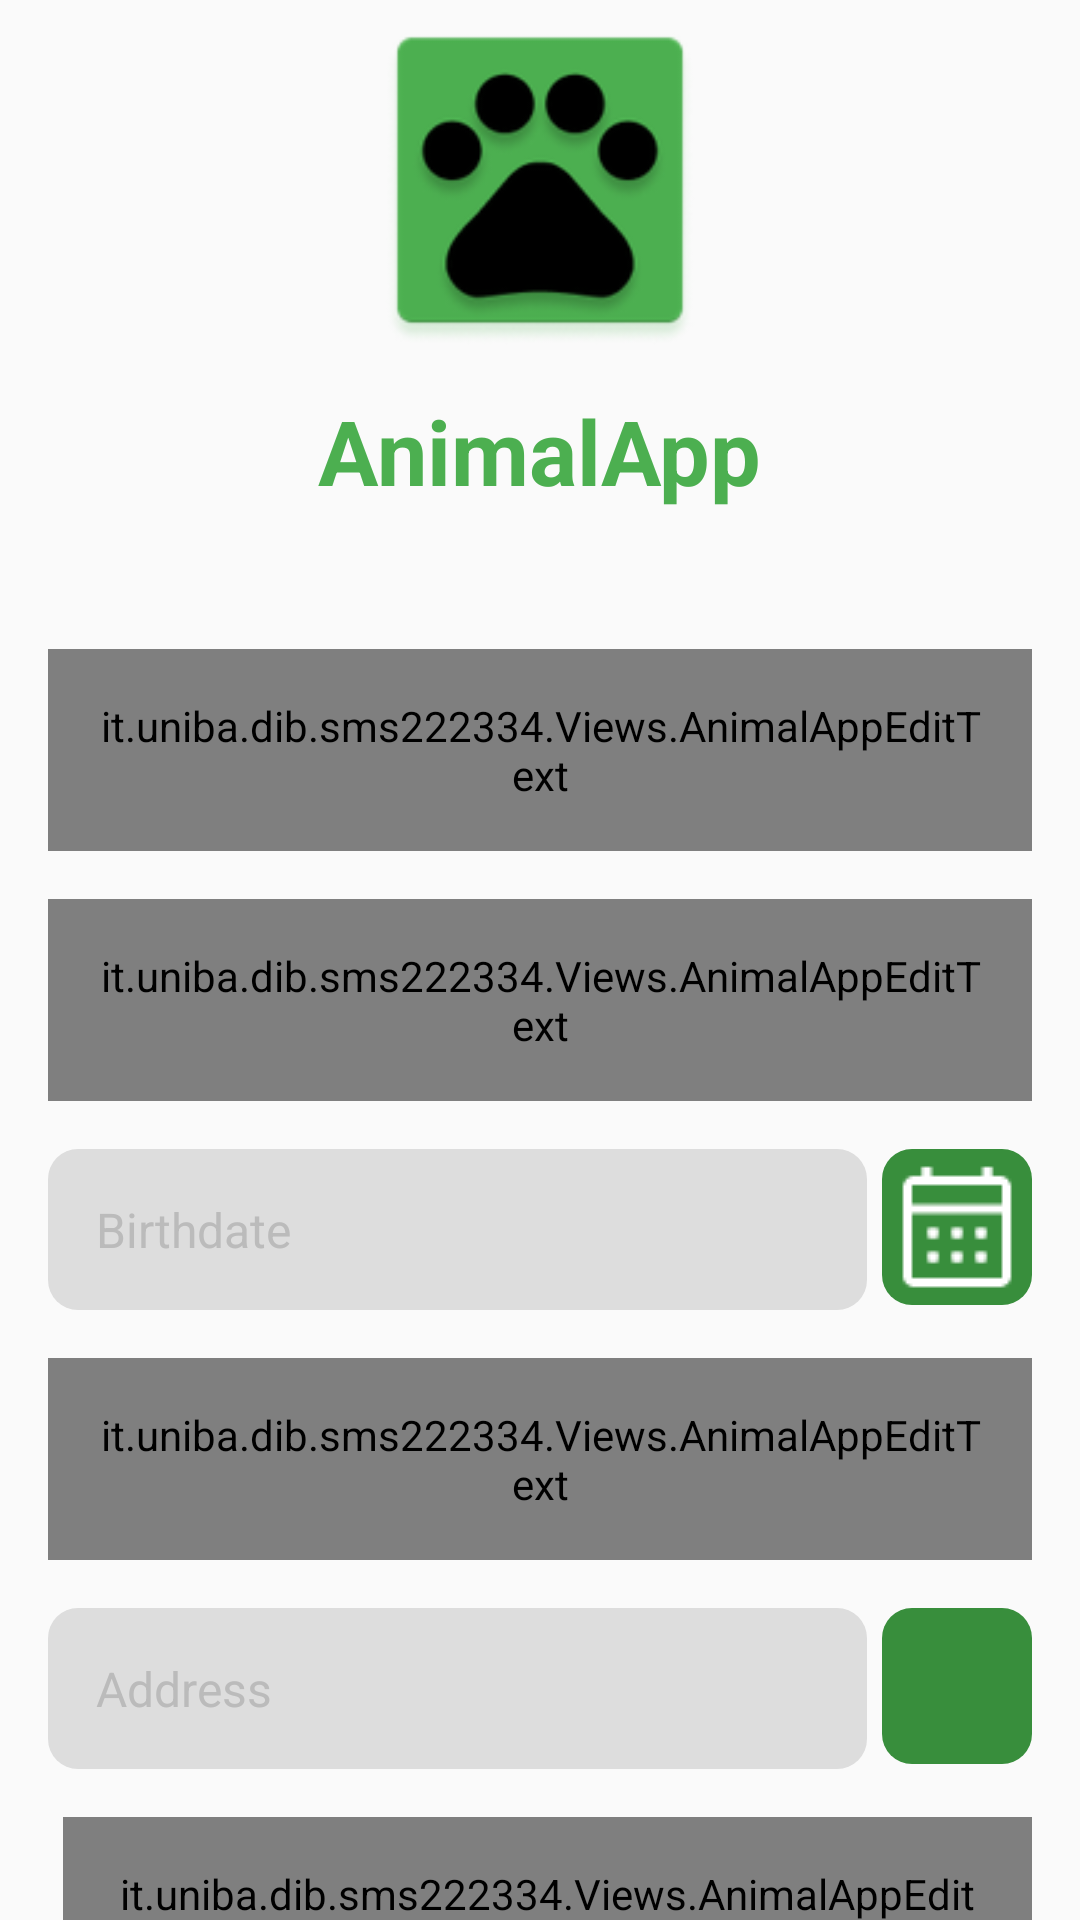

Named icons in this screenshot (1080x1920) and their bounding boxes, (x1, y1, x2, y2):
calendar: (882, 1149, 1032, 1305)
